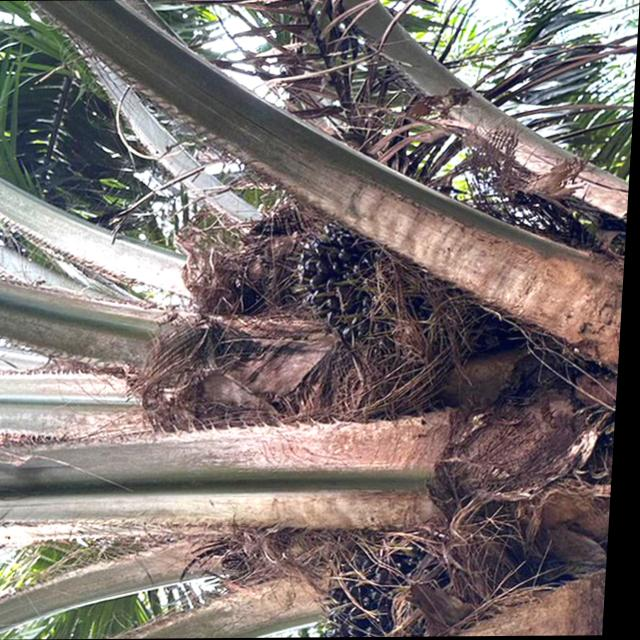ripe: (267, 204, 404, 338)
